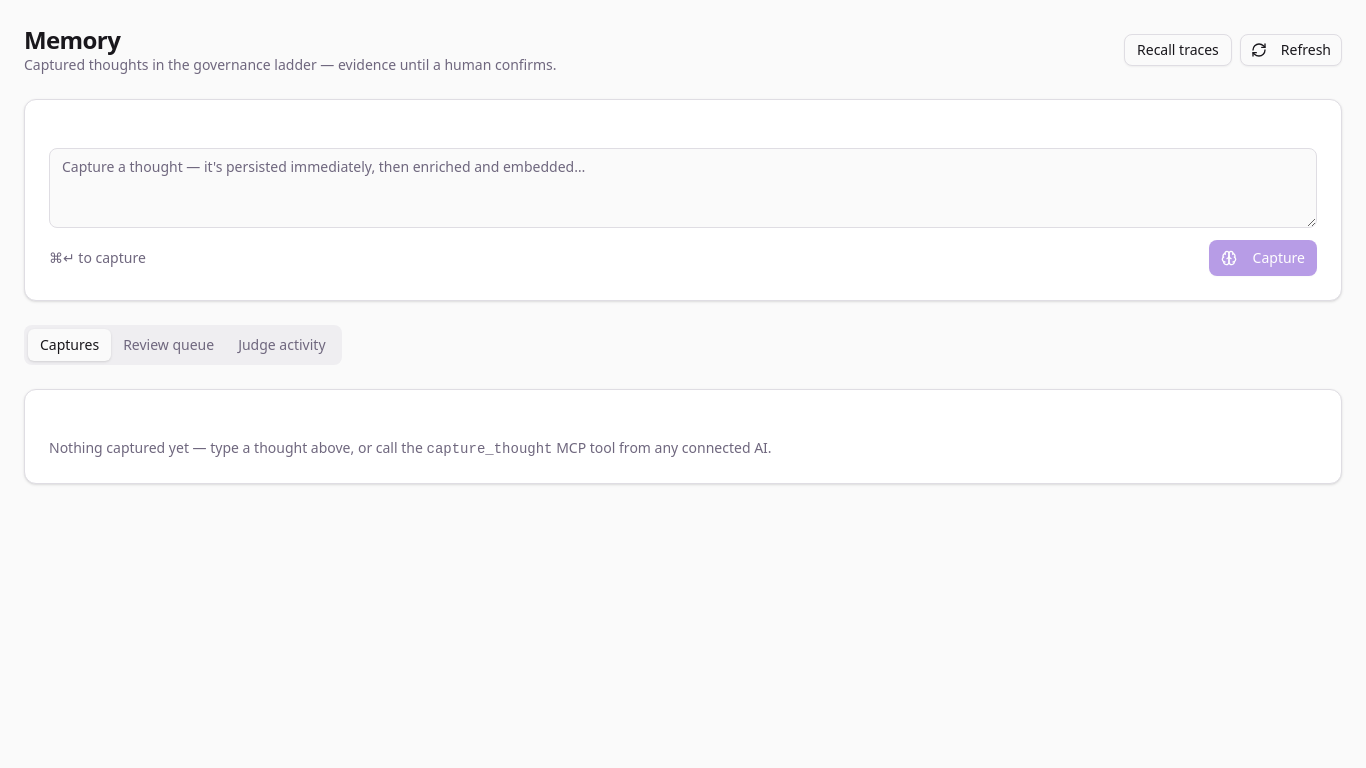
it: lists pending records across kinds with kind badges
Click the tab "Review queue" at (169, 345), box [111,329,226,361]
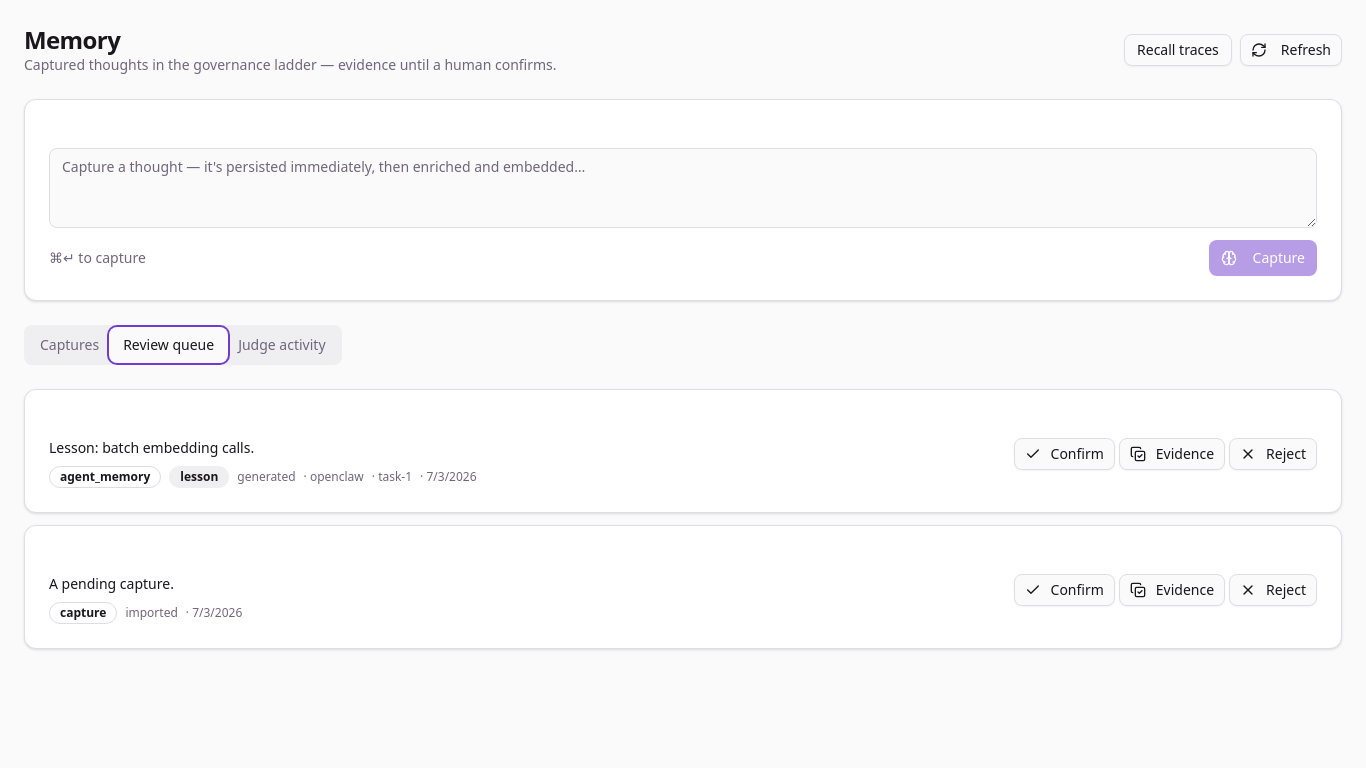
Expected: the text "Lesson: batch embedding calls." is shown, [49,438,254,457]
Expected: the text "A pending capture." is shown, [49,574,174,593]
Expected: the text "agent_memory" is shown, [49,466,161,488]
